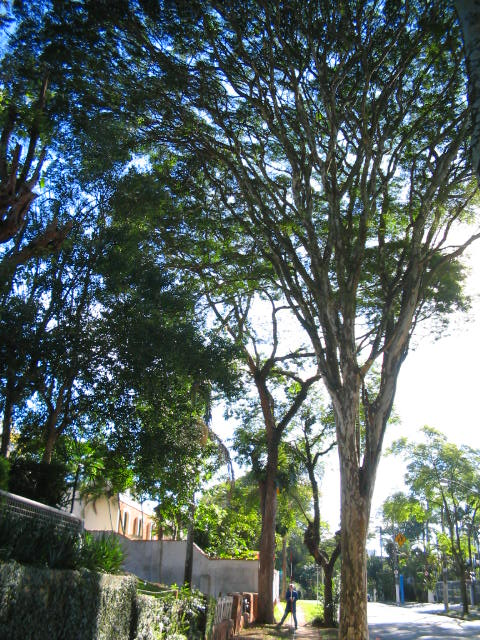crown: (13, 4, 479, 243), (104, 175, 473, 378)
stem: (323, 503, 381, 639), (247, 443, 282, 622)
stick: (285, 549, 297, 631)
tree: (9, 3, 479, 640), (100, 173, 474, 624)
